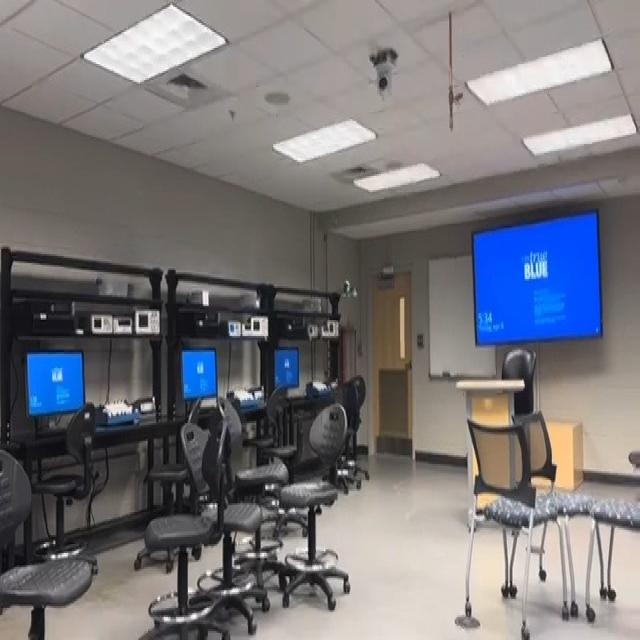drone: (331, 272, 363, 310)
